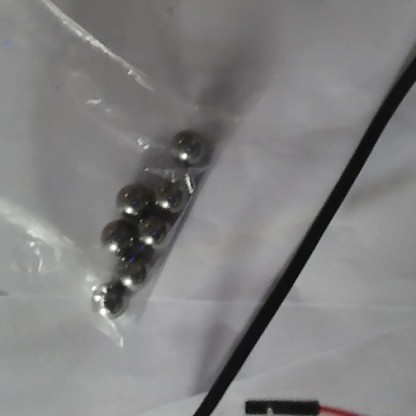ironball: (84, 279, 131, 320), (164, 125, 205, 163), (111, 255, 153, 292), (95, 217, 136, 254), (150, 174, 187, 212), (113, 180, 150, 216), (134, 216, 168, 249)
